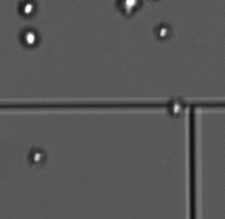Living Cell: (164, 95, 187, 118), (115, 1, 144, 19), (20, 26, 39, 50), (28, 146, 48, 167), (16, 1, 38, 18), (154, 21, 172, 41)
